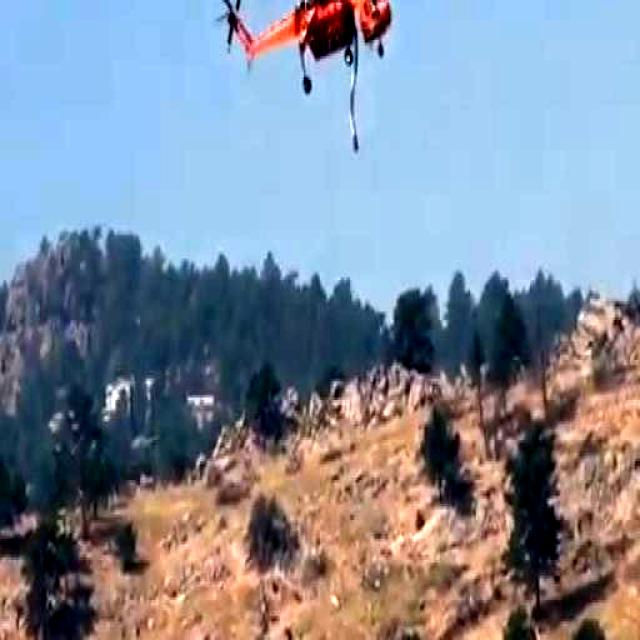drone: (216, 0, 402, 100)
